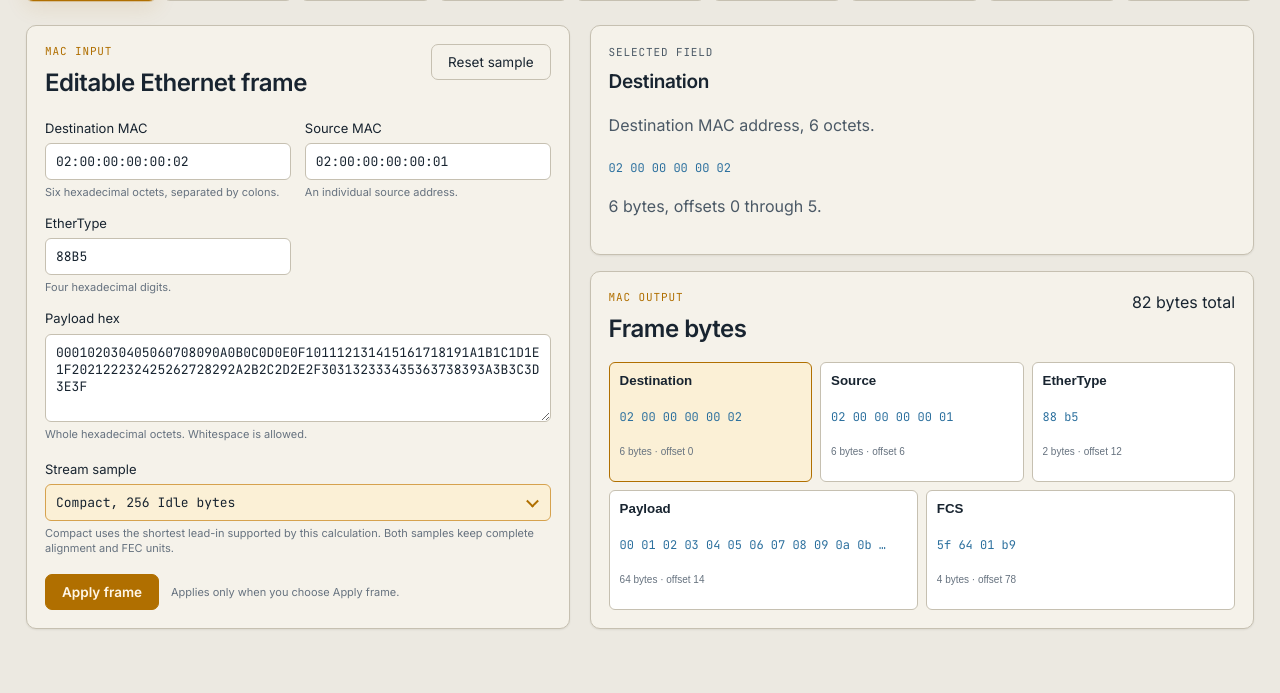
Test: frame inspector › changes field details when payload and FCS bytes are selected
(page scrolled)
Click the button "payload" at (763, 550), box [609,490,918,610]
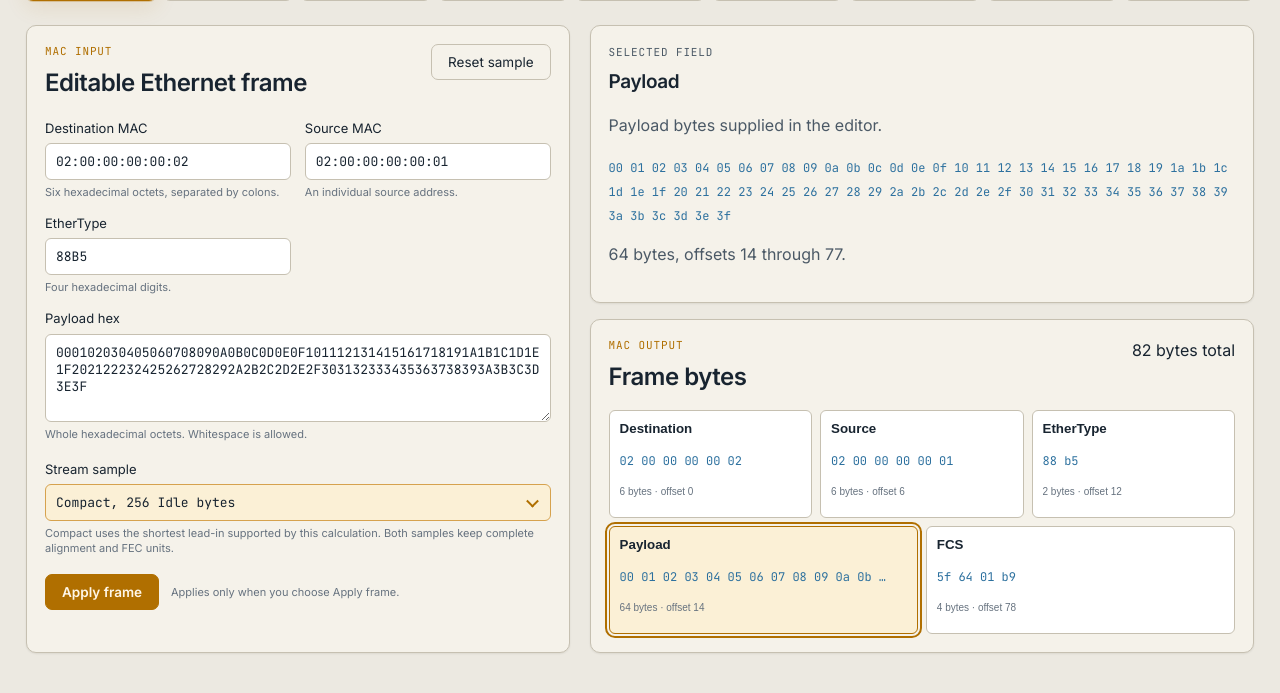
Check: the element named "Field details" shows "Payload", box [609,70,679,93]
Click the button "FCS 5f 64 01 b9 4 bytes · offset 78" at (976, 577), box [926,526,1235,634]
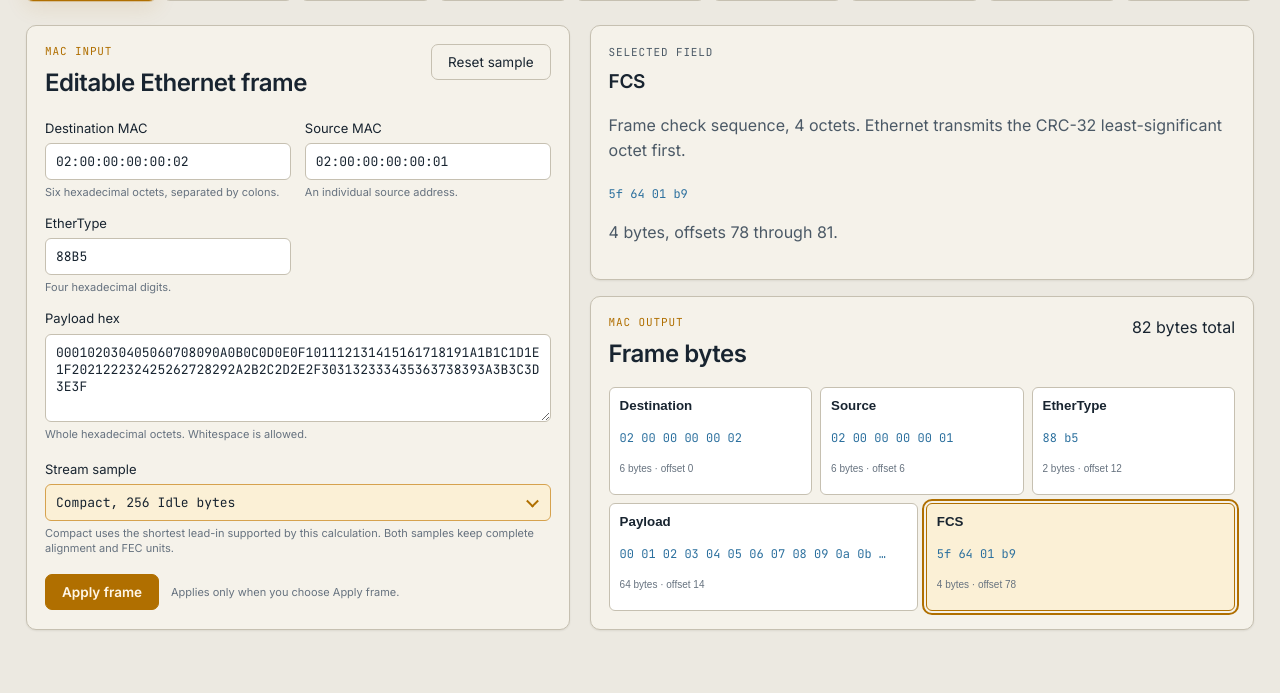
Check: the element named "Field details" shows "Frame check sequence", box [609,115,1222,160]
